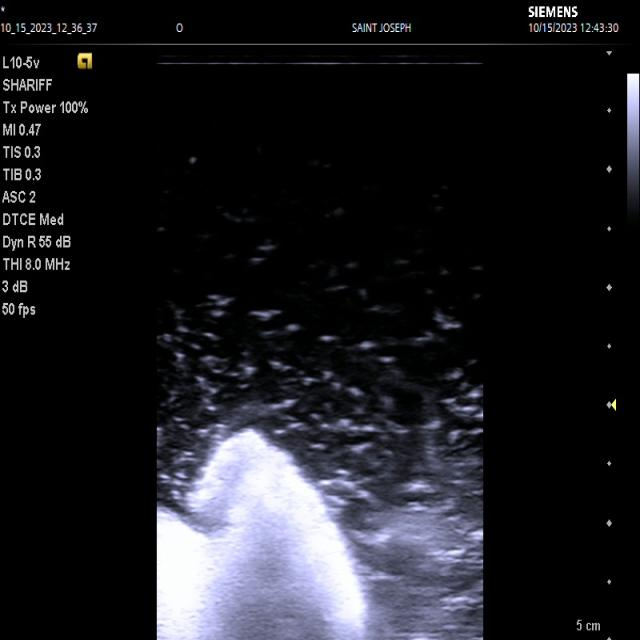tissue: (157, 429, 370, 640)
